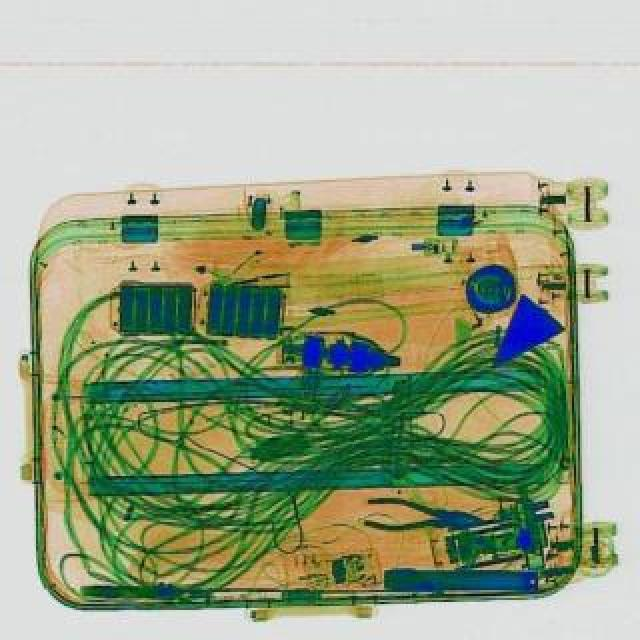wrench: (360, 494, 484, 538)
